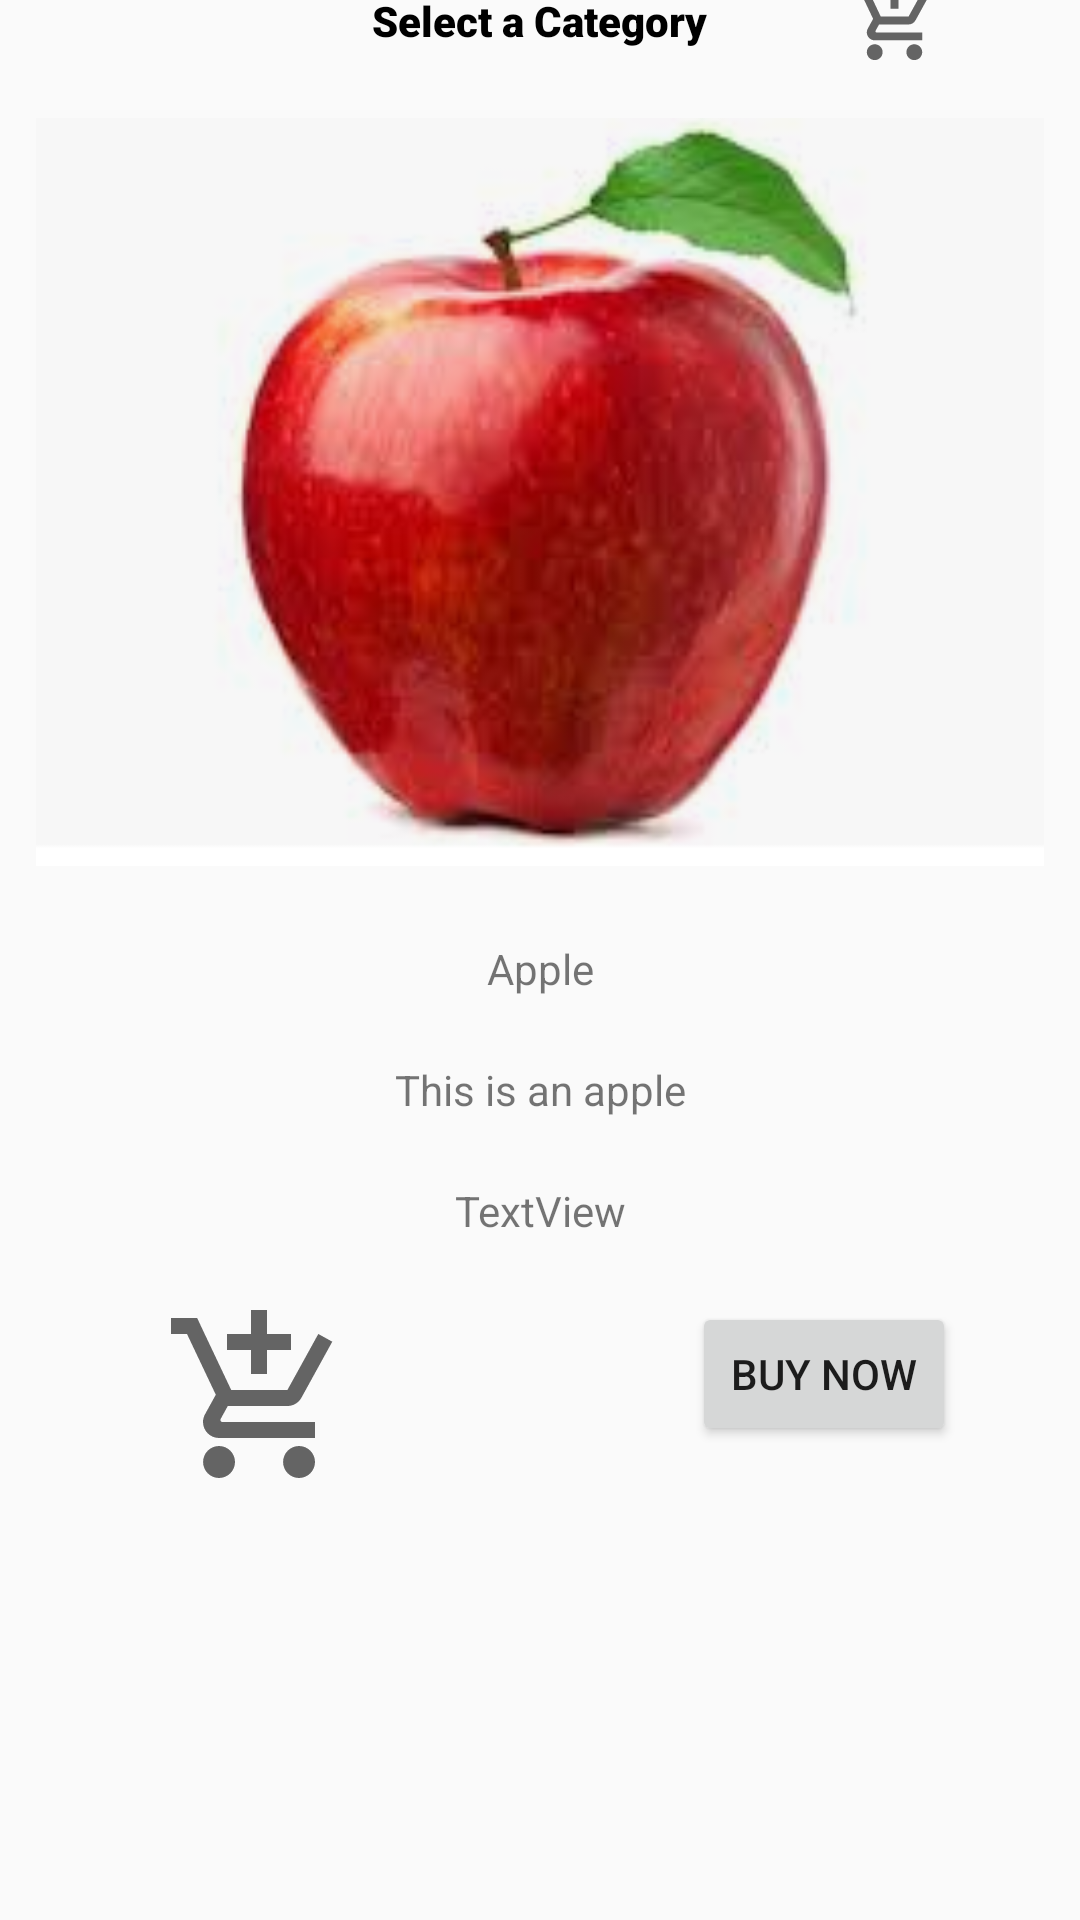

Point at icon controls on the screen. Image size 1080px x 1920px, points as [x,y].
to cart: [251,1394]
